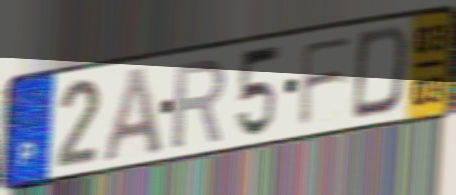2: (53, 74, 106, 173)
5: (235, 43, 281, 141)
A: (99, 63, 166, 167)
D: (348, 22, 413, 123)
F: (296, 31, 358, 130)
R: (169, 55, 229, 153)
